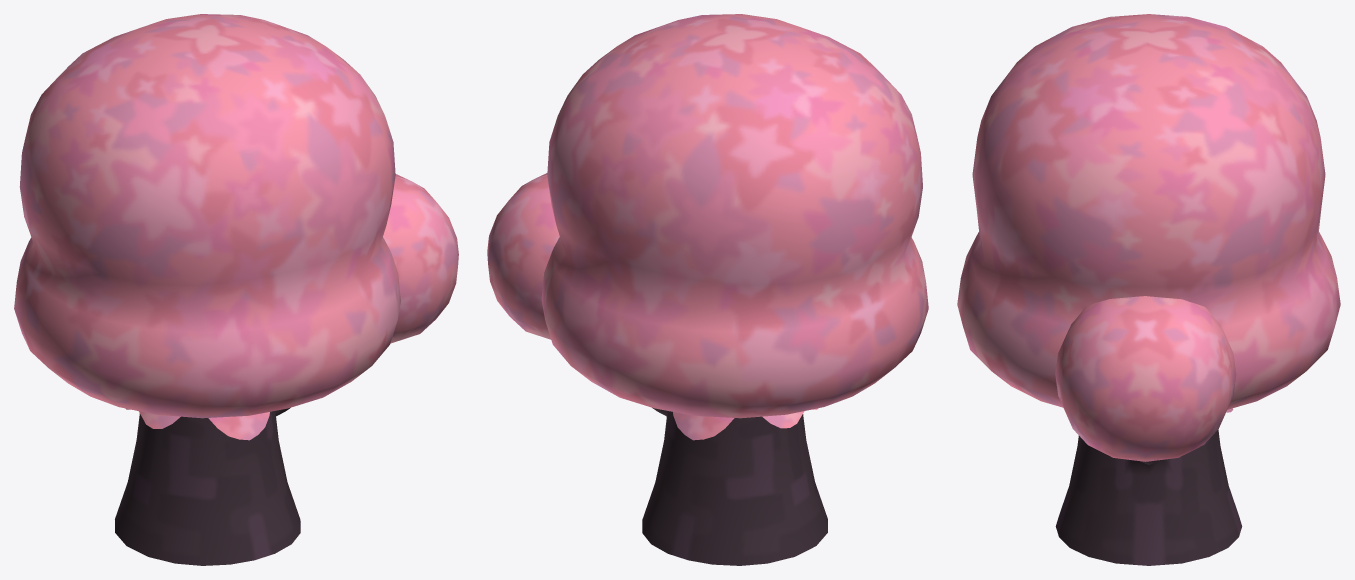
File: cherryblossom_tree01.FBX
3 renders of one model, left to right at view 1: azimuth 30°, elevation 25°; view 2: azimuth 150°, elevation 25°; view 3: azimuth 270°, elevation 25°, orthographic.
Visible parts, largest first — view 1: Object003; view 2: Object003; view 3: Object003.
Part boxes in pixels (left/top/right/bottom): Object003: left=14, top=14, right=458, bottom=565; Object003: left=487, top=14, right=928, bottom=565; Object003: left=957, top=14, right=1340, bottom=565.
Bounding box in the file's own units: 193 × 223 × 159.
